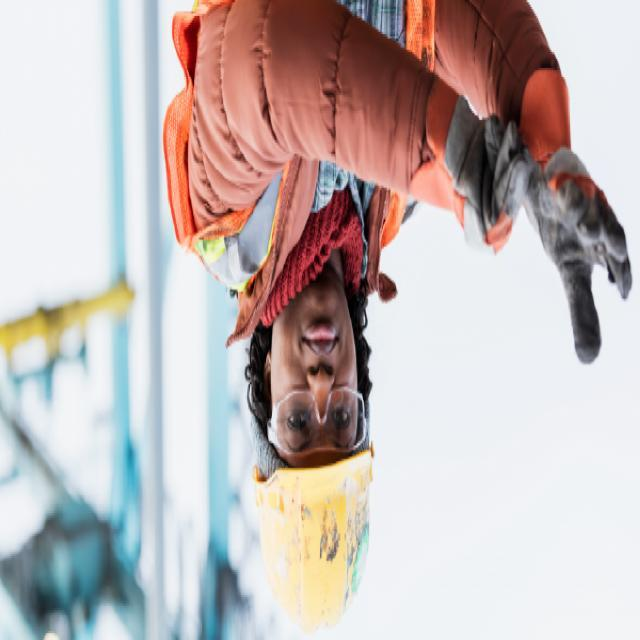Ear-Protection: (259, 385, 370, 445)
Gloves: (534, 145, 634, 376), (422, 100, 530, 252)
Helmet: (254, 440, 378, 636)
